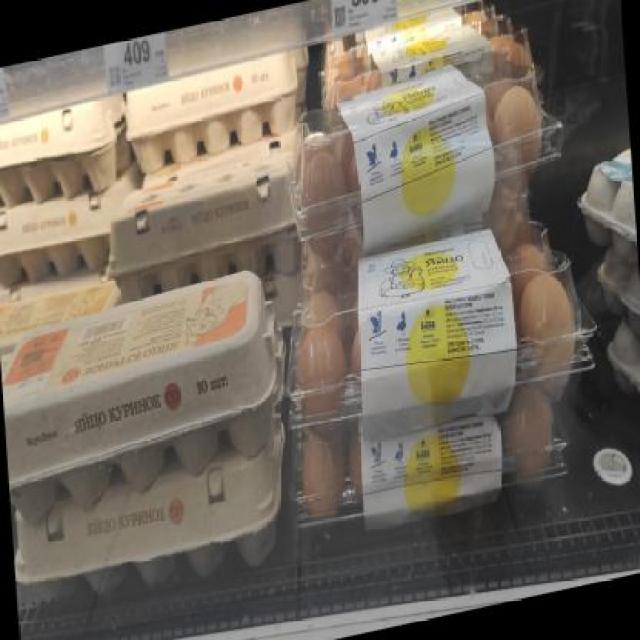Egg: (0, 254, 296, 512)
